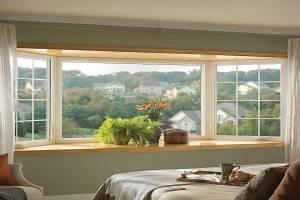window: (10, 47, 290, 144)
